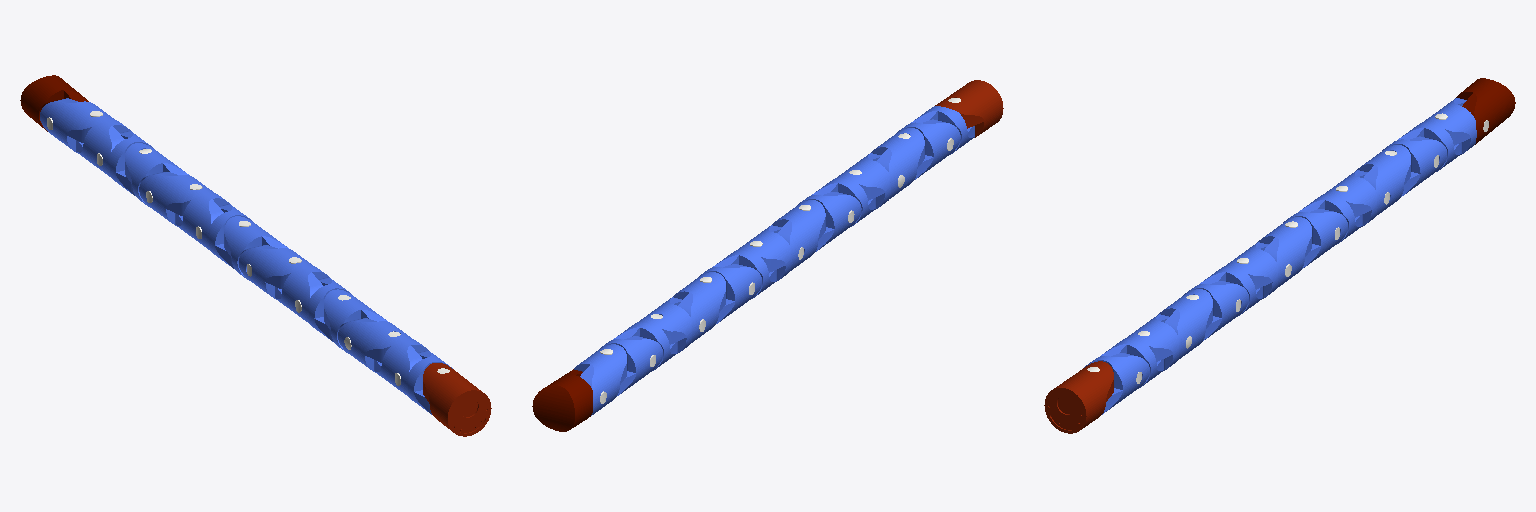
--- What the picture shows (computed from the rendered views, not written in the file) ---
Views: 3 orthographic renders of the robot side by side, from view 1: azimuth 30°, elevation 25°; view 2: azimuth 150°, elevation 25°; view 3: azimuth 330°, elevation 25°.
Model onshape with 18 links and 17 joints (16 revolute, 1 floating), rooted at world, posed all joints at 0.
Links seen in each view (by area): view 1: finalhead, finalcoupling_3, finalcoupling_7, finalcoupling_15, finalcoupling_11, finalcoupling_12, finalcoupling_4, finalend, finalcoupling_14, finalcoupling_6, finalcoupling_10, finalcoupling_8 (+5 smaller); view 2: finalend, finalcoupling_7, finalhead, finalcoupling_3, finalcoupling_11, finalcoupling_15, finalcoupling_10, finalcoupling_14, finalcoupling_6, finalcoupling_4, finalcoupling_12, finalcoupling_2 (+5 smaller); view 3: finalhead, finalcoupling_4, finalcoupling_12, finalend, finalcoupling_8, finalcoupling_9, finalcoupling, finalcoupling_13, finalcoupling_5, finalcoupling_7, finalcoupling_3, finalcoupling_15 (+5 smaller).
Link boxes in pixels (box(x1,y1,x2,y2)): finalhead: box(423, 363, 491, 436); finalcoupling_3: box(338, 318, 413, 371); finalcoupling_7: box(239, 245, 314, 298); finalcoupling_15: box(40, 98, 114, 152); finalcoupling_11: box(139, 172, 215, 225); finalcoupling_12: box(125, 143, 188, 206); finalcoupling_4: box(324, 289, 387, 353); finalend: box(20, 75, 88, 131); finalcoupling_14: box(76, 111, 130, 176); finalcoupling_6: box(275, 257, 328, 323); finalcoupling_10: box(175, 184, 229, 249); finalcoupling_8: box(224, 216, 288, 280); finalend: box(532, 369, 606, 431); finalcoupling_7: box(772, 200, 825, 270); finalhead: box(935, 80, 1003, 137); finalcoupling_3: box(871, 128, 924, 198); finalcoupling_11: box(673, 272, 725, 342); finalcoupling_15: box(574, 344, 626, 415); finalcoupling_10: box(699, 264, 761, 323); finalcoupling_14: box(600, 336, 662, 395); finalcoupling_6: box(798, 192, 861, 251); finalcoupling_4: box(837, 153, 904, 208); finalcoupling_12: box(639, 297, 705, 352); finalcoupling_2: box(897, 119, 960, 179); finalhead: box(1044, 361, 1113, 433); finalcoupling_4: box(1159, 289, 1212, 359); finalcoupling_12: box(1357, 145, 1410, 214); finalend: box(1456, 78, 1515, 144); finalcoupling_8: box(1258, 217, 1311, 287); finalcoupling_9: box(1283, 209, 1347, 268); finalcoupling: box(1084, 353, 1149, 414); finalcoupling_13: box(1382, 136, 1446, 196); finalcoupling_5: box(1183, 281, 1248, 340); finalcoupling_7: box(1224, 242, 1291, 298); finalcoupling_3: box(1125, 314, 1178, 370); finalcoupling_15: box(1422, 98, 1476, 154).
Size in the robot's own frame: 0.0652 by 1.04 by 0.063 metres.
33 mesh visuals loaded from 4 distinct referenced files (4 binary STL).

URDF robot description (onshape):
<robot name="onshape">
 <mujoco>
         <compiler 
         meshdir="../meshes/" 
         balanceinertia="true" 
         discardvisual="false" />
 </mujoco>
  <link name="world"/>
 <joint name="floating_base" type="floating">
     <origin rpy="0 0 0" xyz="0 0 0"/>
     <parent link="world"/>
     <child link="finalhead"/>
 </joint>
<link name="finalhead">
<visual>
<origin xyz="0.000743331 0.0237264 0.0388336" rpy="0 0 -0.0272326" />
<geometry>
<mesh filename="../meshes/finalhead.stl"/>
</geometry>
<material name="finalhead_material">
<color rgba="0.596078 0.176471 0.0509804 1.0"/>
</material>
</visual>
<collision>
<origin xyz="0.000743331 0.0237264 0.0388336" rpy="0 0 -0.0272326" />
<geometry>
<mesh filename="../meshes/finalhead.stl"/>
</geometry>
<material name="finalhead_material">
<color rgba="0.596078 0.176471 0.0509804 1.0"/>
</material>
</collision>
<visual>
<origin xyz="0.00128792 0.043719 0.0086617" rpy="0 0 -0.0272326" />
<geometry>
<mesh filename="../meshes/finalrod.stl"/>
</geometry>
<material name="finalrod_material">
<color rgba="1 0.996078 0.968627 1.0"/>
</material>
</visual>
<collision>
<origin xyz="0.00128792 0.043719 0.0086617" rpy="0 0 -0.0272326" />
<geometry>
<mesh filename="../meshes/finalrod.stl"/>
</geometry>
<material name="finalrod_material">
<color rgba="1 0.996078 0.968627 1.0"/>
</material>
</collision>
<inertial>
<origin xyz="0.000501801 0.0148621 0.0426872" rpy="0 0 0"/>
<mass value="0.246213" />
<inertia ixx="0.000190923" ixy="-2.34304e-06"  ixz="-7.09537e-07" iyy="0.000104956" iyz="-2.60499e-05" izz="0.000188679" />
</inertial>
</link>

<link name="finalcoupling">
<visual>
<origin xyz="0.02 -2.1684e-19 0.0005" rpy="1.5708 1.5708 0" />
<geometry>
<mesh filename="../meshes/finalcoupling.stl"/>
</geometry>
<material name="finalcoupling_material">
<color rgba="0.372549 0.533333 1 1.0"/>
</material>
</visual>
<collision>
<origin xyz="0.02 -2.1684e-19 0.0005" rpy="1.5708 1.5708 0" />
<geometry>
<mesh filename="../meshes/finalcoupling.stl"/>
</geometry>
<material name="finalcoupling_material">
<color rgba="0.372549 0.533333 1 1.0"/>
</material>
</collision>
<visual>
<origin xyz="0.06 0.0301709 0.0005" rpy="1.5708 0 0" />
<geometry>
<mesh filename="../meshes/finalrod.stl"/>
</geometry>
<material name="finalrod_material">
<color rgba="1 0.996078 0.968627 1.0"/>
</material>
</visual>
<collision>
<origin xyz="0.06 0.0301709 0.0005" rpy="1.5708 0 0" />
<geometry>
<mesh filename="../meshes/finalrod.stl"/>
</geometry>
<material name="finalrod_material">
<color rgba="1 0.996078 0.968627 1.0"/>
</material>
</collision>
<inertial>
<origin xyz="0.0321744 -0.00447826 -0.00399057" rpy="0 0 0"/>
<mass value="0.211217" />
<inertia ixx="8.34885e-05" ixy="2.51775e-05"  ixz="-2.93751e-05" iyy="0.000194407" iyz="4.24805e-06" izz="0.000198724" />
</inertial>
</link>

<link name="finalcoupling_2">
<visual>
<origin xyz="0 0.04 0.0005" rpy="-3.14159 -0 0" />
<geometry>
<mesh filename="../meshes/finalcoupling.stl"/>
</geometry>
<material name="finalcoupling_material">
<color rgba="0.372549 0.533333 1 1.0"/>
</material>
</visual>
<collision>
<origin xyz="0 0.04 0.0005" rpy="-3.14159 -0 0" />
<geometry>
<mesh filename="../meshes/finalcoupling.stl"/>
</geometry>
<material name="finalcoupling_material">
<color rgba="0.372549 0.533333 1 1.0"/>
</material>
</collision>
<inertial>
<origin xyz="0.00484149 0.03 -0.00434156" rpy="0 0 0"/>
<mass value="0.195908" />
<inertia ixx="0.000180844" ixy="-2.73127e-05"  ixz="-4.59263e-06" iyy="7.80517e-05" iyz="-2.73127e-05" izz="0.000180836" />
</inertial>
</link>

<link name="finalcoupling_3">
<visual>
<origin xyz="9.97466e-18 0 0.0306709" rpy="3.14159 0 -3.14159" />
<geometry>
<mesh filename="../meshes/finalrod.stl"/>
</geometry>
<material name="finalrod_material">
<color rgba="1 0.996078 0.968627 1.0"/>
</material>
</visual>
<collision>
<origin xyz="9.97466e-18 0 0.0306709" rpy="3.14159 0 -3.14159" />
<geometry>
<mesh filename="../meshes/finalrod.stl"/>
</geometry>
<material name="finalrod_material">
<color rgba="1 0.996078 0.968627 1.0"/>
</material>
</collision>
<visual>
<origin xyz="0 0.04 0.0005" rpy="3.14159 -0 0" />
<geometry>
<mesh filename="../meshes/finalcoupling.stl"/>
</geometry>
<material name="finalcoupling_material">
<color rgba="0.372549 0.533333 1 1.0"/>
</material>
</visual>
<collision>
<origin xyz="0 0.04 0.0005" rpy="3.14159 -0 0" />
<geometry>
<mesh filename="../meshes/finalcoupling.stl"/>
</geometry>
<material name="finalcoupling_material">
<color rgba="0.372549 0.533333 1 1.0"/>
</material>
</collision>
<inertial>
<origin xyz="0.00449058 0.0278256 -0.00397826" rpy="0 0 0"/>
<mass value="0.211217" />
<inertia ixx="0.000198727" ixy="-2.9375e-05"  ixz="-4.24805e-06" iyy="8.34859e-05" iyz="-2.51775e-05" izz="0.000194407" />
</inertial>
</link>

<link name="finalcoupling_4">
<visual>
<origin xyz="0.02 0 0.0005" rpy="1.5708 1.5708 0" />
<geometry>
<mesh filename="../meshes/finalcoupling.stl"/>
</geometry>
<material name="finalcoupling_material">
<color rgba="0.372549 0.533333 1 1.0"/>
</material>
</visual>
<collision>
<origin xyz="0.02 0 0.0005" rpy="1.5708 1.5708 0" />
<geometry>
<mesh filename="../meshes/finalcoupling.stl"/>
</geometry>
<material name="finalcoupling_material">
<color rgba="0.372549 0.533333 1 1.0"/>
</material>
</collision>
<visual>
<origin xyz="2.77556e-17 -2.35922e-16 0.0306709" rpy="-3.14159 0 1.5708" />
<geometry>
<mesh filename="../meshes/finalrod.stl"/>
</geometry>
<material name="finalrod_material">
<color rgba="1 0.996078 0.968627 1.0"/>
</material>
</visual>
<collision>
<origin xyz="2.77556e-17 -2.35922e-16 0.0306709" rpy="-3.14159 0 1.5708" />
<geometry>
<mesh filename="../meshes/finalrod.stl"/>
</geometry>
<material name="finalrod_material">
<color rgba="1 0.996078 0.968627 1.0"/>
</material>
</collision>
<visual>
<origin xyz="0.06 0.0301709 0.0005" rpy="1.5708 1.5708 0" />
<geometry>
<mesh filename="../meshes/finalrod.stl"/>
</geometry>
<material name="finalrod_material">
<color rgba="1 0.996078 0.968627 1.0"/>
</material>
</visual>
<collision>
<origin xyz="0.06 0.0301709 0.0005" rpy="1.5708 1.5708 0" />
<geometry>
<mesh filename="../meshes/finalrod.stl"/>
</geometry>
<material name="finalrod_material">
<color rgba="1 0.996078 0.968627 1.0"/>
</material>
</collision>
<inertial>
<origin xyz="0.03 -0.00417561 -0.00367555" rpy="0 0 0"/>
<mass value="0.226526" />
<inertia ixx="8.88271e-05" ixy="2.72343e-05"  ixz="-2.72342e-05" iyy="0.000214241" iyz="3.95007e-06" izz="0.000214249" />
</inertial>
</link>

<link name="finalcoupling_5">
<visual>
<origin xyz="0.02 -4.33681e-19 0.0005" rpy="1.5708 1.5708 0" />
<geometry>
<mesh filename="../meshes/finalcoupling.stl"/>
</geometry>
<material name="finalcoupling_material">
<color rgba="0.372549 0.533333 1 1.0"/>
</material>
</visual>
<collision>
<origin xyz="0.02 -4.33681e-19 0.0005" rpy="1.5708 1.5708 0" />
<geometry>
<mesh filename="../meshes/finalcoupling.stl"/>
</geometry>
<material name="finalcoupling_material">
<color rgba="0.372549 0.533333 1 1.0"/>
</material>
</collision>
<visual>
<origin xyz="0.06 0.0301709 0.0005" rpy="1.5708 0 0" />
<geometry>
<mesh filename="../meshes/finalrod.stl"/>
</geometry>
<material name="finalrod_material">
<color rgba="1 0.996078 0.968627 1.0"/>
</material>
</visual>
<collision>
<origin xyz="0.06 0.0301709 0.0005" rpy="1.5708 0 0" />
<geometry>
<mesh filename="../meshes/finalrod.stl"/>
</geometry>
<material name="finalrod_material">
<color rgba="1 0.996078 0.968627 1.0"/>
</material>
</collision>
<inertial>
<origin xyz="0.0321744 -0.00447826 -0.00399057" rpy="0 0 0"/>
<mass value="0.211217" />
<inertia ixx="8.34885e-05" ixy="2.51775e-05"  ixz="-2.93751e-05" iyy="0.000194407" iyz="4.24805e-06" izz="0.000198724" />
</inertial>
</link>

<link name="finalcoupling_6">
<visual>
<origin xyz="0.029817 0.06 0.0005" rpy="0 -1.5708 0" />
<geometry>
<mesh filename="../meshes/finalrod.stl"/>
</geometry>
<material name="finalrod_material">
<color rgba="1 0.996078 0.968627 1.0"/>
</material>
</visual>
<collision>
<origin xyz="0.029817 0.06 0.0005" rpy="0 -1.5708 0" />
<geometry>
<mesh filename="../meshes/finalrod.stl"/>
</geometry>
<material name="finalrod_material">
<color rgba="1 0.996078 0.968627 1.0"/>
</material>
</collision>
<visual>
<origin xyz="0 0.04 0.0005" rpy="-3.14159 -0 0" />
<geometry>
<mesh filename="../meshes/finalcoupling.stl"/>
</geometry>
<material name="finalcoupling_material">
<color rgba="0.372549 0.533333 1 1.0"/>
</material>
</visual>
<collision>
<origin xyz="0 0.04 0.0005" rpy="-3.14159 -0 0" />
<geometry>
<mesh filename="../meshes/finalcoupling.stl"/>
</geometry>
<material name="finalcoupling_material">
<color rgba="0.372549 0.533333 1 1.0"/>
</material>
</collision>
<inertial>
<origin xyz="0.00447731 0.0321744 -0.00399064" rpy="0 0 0"/>
<mass value="0.211217" />
<inertia ixx="0.000194414" ixy="-2.51723e-05"  ixz="-4.24721e-06" iyy="8.34877e-05" iyz="-2.93751e-05" izz="0.000198721" />
</inertial>
</link>

<link name="finalcoupling_7">
<visual>
<origin xyz="0.02 -4.33681e-19 0.0005" rpy="1.5708 1.5708 0" />
<geometry>
<mesh filename="../meshes/finalcoupling.stl"/>
</geometry>
<material name="finalcoupling_material">
<color rgba="0.372549 0.533333 1 1.0"/>
</material>
</visual>
<collision>
<origin xyz="0.02 -4.33681e-19 0.0005" rpy="1.5708 1.5708 0" />
<geometry>
<mesh filename="../meshes/finalcoupling.stl"/>
</geometry>
<material name="finalcoupling_material">
<color rgba="0.372549 0.533333 1 1.0"/>
</material>
</collision>
<visual>
<origin xyz="0.06 -0.029817 0.0005" rpy="1.5708 0 3.14159" />
<geometry>
<mesh filename="../meshes/finalrod.stl"/>
</geometry>
<material name="finalrod_material">
<color rgba="1 0.996078 0.968627 1.0"/>
</material>
</visual>
<collision>
<origin xyz="0.06 -0.029817 0.0005" rpy="1.5708 0 3.14159" />
<geometry>
<mesh filename="../meshes/finalrod.stl"/>
</geometry>
<material name="finalrod_material">
<color rgba="1 0.996078 0.968627 1.0"/>
</material>
</collision>
<inertial>
<origin xyz="0.0321744 -0.00447737 -0.00399057" rpy="0 0 0"/>
<mass value="0.211217" />
<inertia ixx="8.34903e-05" ixy="2.51723e-05"  ixz="-2.93751e-05" iyy="0.000194407" iyz="4.2472e-06" izz="0.000198726" />
</inertial>
</link>

<link name="finalcoupling_8">
<visual>
<origin xyz="6.93889e-18 0.04 0.0005" rpy="3.14159 0 0" />
<geometry>
<mesh filename="../meshes/finalcoupling.stl"/>
</geometry>
<material name="finalcoupling_material">
<color rgba="0.372549 0.533333 1 1.0"/>
</material>
</visual>
<collision>
<origin xyz="6.93889e-18 0.04 0.0005" rpy="3.14159 0 0" />
<geometry>
<mesh filename="../meshes/finalcoupling.stl"/>
</geometry>
<material name="finalcoupling_material">
<color rgba="0.372549 0.533333 1 1.0"/>
</material>
</collision>
<inertial>
<origin xyz="0.00484149 0.03 -0.00434156" rpy="0 0 0"/>
<mass value="0.195908" />
<inertia ixx="0.000180844" ixy="-2.73127e-05"  ixz="-4.59263e-06" iyy="7.80517e-05" iyz="-2.73127e-05" izz="0.000180836" />
</inertial>
</link>

<link name="finalcoupling_9">
<visual>
<origin xyz="0.029817 0.06 0.0005" rpy="1.5708 0 -1.5708" />
<geometry>
<mesh filename="../meshes/finalrod.stl"/>
</geometry>
<material name="finalrod_material">
<color rgba="1 0.996078 0.968627 1.0"/>
</material>
</visual>
<collision>
<origin xyz="0.029817 0.06 0.0005" rpy="1.5708 0 -1.5708" />
<geometry>
<mesh filename="../meshes/finalrod.stl"/>
</geometry>
<material name="finalrod_material">
<color rgba="1 0.996078 0.968627 1.0"/>
</material>
</collision>
<visual>
<origin xyz="2.1684e-19 0.04 0.0005" rpy="3.14159 0 0" />
<geometry>
<mesh filename="../meshes/finalcoupling.stl"/>
</geometry>
<material name="finalcoupling_material">
<color rgba="0.372549 0.533333 1 1.0"/>
</material>
</visual>
<collision>
<origin xyz="2.1684e-19 0.04 0.0005" rpy="3.14159 0 0" />
<geometry>
<mesh filename="../meshes/finalcoupling.stl"/>
</geometry>
<material name="finalcoupling_material">
<color rgba="0.372549 0.533333 1 1.0"/>
</material>
</collision>
<visual>
<origin xyz="7.15573e-18 0 -0.029317" rpy="0 0 0" />
<geometry>
<mesh filename="../meshes/finalrod.stl"/>
</geometry>
<material name="finalrod_material">
<color rgba="1 0.996078 0.968627 1.0"/>
</material>
</visual>
<collision>
<origin xyz="7.15573e-18 0 -0.029317" rpy="0 0 0" />
<geometry>
<mesh filename="../meshes/finalrod.stl"/>
</geometry>
<material name="finalrod_material">
<color rgba="1 0.996078 0.968627 1.0"/>
</material>
</collision>
<inertial>
<origin xyz="0.00417472 0.03 -0.00367478" rpy="0 0 0"/>
<mass value="0.226526" />
<inertia ixx="0.00021425" ixy="-2.72286e-05"  ixz="-3.9485e-06" iyy="8.88329e-05" iyz="-2.72287e-05" izz="0.00021424" />
</inertial>
</link>

<link name="finalcoupling_10">
<visual>
<origin xyz="0.06 -0.029817 0.0005" rpy="-1.5708 -1.5708 0" />
<geometry>
<mesh filename="../meshes/finalrod.stl"/>
</geometry>
<material name="finalrod_material">
<color rgba="1 0.996078 0.968627 1.0"/>
</material>
</visual>
<collision>
<origin xyz="0.06 -0.029817 0.0005" rpy="-1.5708 -1.5708 0" />
<geometry>
<mesh filename="../meshes/finalrod.stl"/>
</geometry>
<material name="finalrod_material">
<color rgba="1 0.996078 0.968627 1.0"/>
</material>
</collision>
<visual>
<origin xyz="0.02 0 0.0005" rpy="1.5708 1.5708 0" />
<geometry>
<mesh filename="../meshes/finalcoupling.stl"/>
</geometry>
<material name="finalcoupling_material">
<color rgba="0.372549 0.533333 1 1.0"/>
</material>
</visual>
<collision>
<origin xyz="0.02 0 0.0005" rpy="1.5708 1.5708 0" />
<geometry>
<mesh filename="../meshes/finalcoupling.stl"/>
</geometry>
<material name="finalcoupling_material">
<color rgba="0.372549 0.533333 1 1.0"/>
</material>
</collision>
<inertial>
<origin xyz="0.0321744 -0.00447737 -0.00399058" rpy="0 0 0"/>
<mass value="0.211217" />
<inertia ixx="8.34877e-05" ixy="2.51723e-05"  ixz="-2.9375e-05" iyy="0.000194407" iyz="4.24721e-06" izz="0.000198729" />
</inertial>
</link>

<link name="finalcoupling_11">
<visual>
<origin xyz="0 0.04 0.0005" rpy="-3.14159 0 0" />
<geometry>
<mesh filename="../meshes/finalcoupling.stl"/>
</geometry>
<material name="finalcoupling_material">
<color rgba="0.372549 0.533333 1 1.0"/>
</material>
</visual>
<collision>
<origin xyz="0 0.04 0.0005" rpy="-3.14159 0 0" />
<geometry>
<mesh filename="../meshes/finalcoupling.stl"/>
</geometry>
<material name="finalcoupling_material">
<color rgba="0.372549 0.533333 1 1.0"/>
</material>
</collision>
<inertial>
<origin xyz="0.00484149 0.03 -0.00434156" rpy="0 0 0"/>
<mass value="0.195908" />
<inertia ixx="0.000180844" ixy="-2.73127e-05"  ixz="-4.59263e-06" iyy="7.80517e-05" iyz="-2.73127e-05" izz="0.000180836" />
</inertial>
</link>

<link name="finalcoupling_12">
<visual>
<origin xyz="-6.93889e-18 0.04 0.0005" rpy="-3.14159 0 0" />
<geometry>
<mesh filename="../meshes/finalcoupling.stl"/>
</geometry>
<material name="finalcoupling_material">
<color rgba="0.372549 0.533333 1 1.0"/>
</material>
</visual>
<collision>
<origin xyz="-6.93889e-18 0.04 0.0005" rpy="-3.14159 0 0" />
<geometry>
<mesh filename="../meshes/finalcoupling.stl"/>
</geometry>
<material name="finalcoupling_material">
<color rgba="0.372549 0.533333 1 1.0"/>
</material>
</collision>
<visual>
<origin xyz="-0.0301709 0.06 0.0005" rpy="-1.5708 0 -1.5708" />
<geometry>
<mesh filename="../meshes/finalrod.stl"/>
</geometry>
<material name="finalrod_material">
<color rgba="1 0.996078 0.968627 1.0"/>
</material>
</visual>
<collision>
<origin xyz="-0.0301709 0.06 0.0005" rpy="-1.5708 0 -1.5708" />
<geometry>
<mesh filename="../meshes/finalrod.stl"/>
</geometry>
<material name="finalrod_material">
<color rgba="1 0.996078 0.968627 1.0"/>
</material>
</collision>
<visual>
<origin xyz="1.8735e-16 1.11022e-16 -0.029317" rpy="0 0 -1.5708" />
<geometry>
<mesh filename="../meshes/finalrod.stl"/>
</geometry>
<material name="finalrod_material">
<color rgba="1 0.996078 0.968627 1.0"/>
</material>
</visual>
<collision>
<origin xyz="1.8735e-16 1.11022e-16 -0.029317" rpy="0 0 -1.5708" />
<geometry>
<mesh filename="../meshes/finalrod.stl"/>
</geometry>
<material name="finalrod_material">
<color rgba="1 0.996078 0.968627 1.0"/>
</material>
</collision>
<inertial>
<origin xyz="0.00417555 0.03 -0.00367478" rpy="0 0 0"/>
<mass value="0.226526" />
<inertia ixx="0.000214248" ixy="-2.72342e-05"  ixz="-3.94929e-06" iyy="8.88339e-05" iyz="-2.72287e-05" izz="0.000214239" />
</inertial>
</link>

<link name="finalcoupling_13">
<visual>
<origin xyz="0.029817 0.06 0.0005" rpy="1.5708 0 -1.5708" />
<geometry>
<mesh filename="../meshes/finalrod.stl"/>
</geometry>
<material name="finalrod_material">
<color rgba="1 0.996078 0.968627 1.0"/>
</material>
</visual>
<collision>
<origin xyz="0.029817 0.06 0.0005" rpy="1.5708 0 -1.5708" />
<geometry>
<mesh filename="../meshes/finalrod.stl"/>
</geometry>
<material name="finalrod_material">
<color rgba="1 0.996078 0.968627 1.0"/>
</material>
</collision>
<visual>
<origin xyz="2.1684e-19 0.04 0.0005" rpy="-3.14159 -0 0" />
<geometry>
<mesh filename="../meshes/finalcoupling.stl"/>
</geometry>
<material name="finalcoupling_material">
<color rgba="0.372549 0.533333 1 1.0"/>
</material>
</visual>
<collision>
<origin xyz="2.1684e-19 0.04 0.0005" rpy="-3.14159 -0 0" />
<geometry>
<mesh filename="../meshes/finalcoupling.stl"/>
</geometry>
<material name="finalcoupling_material">
<color rgba="0.372549 0.533333 1 1.0"/>
</material>
</collision>
<inertial>
<origin xyz="0.00447731 0.0321744 -0.00399064" rpy="0 0 0"/>
<mass value="0.211217" />
<inertia ixx="0.000194414" ixy="-2.51723e-05"  ixz="-4.2472e-06" iyy="8.34903e-05" iyz="-2.93752e-05" izz="0.000198719" />
</inertial>
</link>

<link name="finalcoupling_14">
<visual>
<origin xyz="0.06 0.0301709 0.0005" rpy="1.5708 -1.5708 0" />
<geometry>
<mesh filename="../meshes/finalrod.stl"/>
</geometry>
<material name="finalrod_material">
<color rgba="1 0.996078 0.968627 1.0"/>
</material>
</visual>
<collision>
<origin xyz="0.06 0.0301709 0.0005" rpy="1.5708 -1.5708 0" />
<geometry>
<mesh filename="../meshes/finalrod.stl"/>
</geometry>
<material name="finalrod_material">
<color rgba="1 0.996078 0.968627 1.0"/>
</material>
</collision>
<visual>
<origin xyz="0.02 0 0.0005" rpy="1.5708 1.5708 0" />
<geometry>
<mesh filename="../meshes/finalcoupling.stl"/>
</geometry>
<material name="finalcoupling_material">
<color rgba="0.372549 0.533333 1 1.0"/>
</material>
</visual>
<collision>
<origin xyz="0.02 0 0.0005" rpy="1.5708 1.5708 0" />
<geometry>
<mesh filename="../meshes/finalcoupling.stl"/>
</geometry>
<material name="finalcoupling_material">
<color rgba="0.372549 0.533333 1 1.0"/>
</material>
</collision>
<inertial>
<origin xyz="0.0321744 -0.00447826 -0.00399058" rpy="0 0 0"/>
<mass value="0.211217" />
<inertia ixx="8.34859e-05" ixy="2.51775e-05"  ixz="-2.9375e-05" iyy="0.000194407" iyz="4.24805e-06" izz="0.000198727" />
</inertial>
</link>

<link name="finalcoupling_15">
<visual>
<origin xyz="-4.33681e-19 0.04 0.0005" rpy="3.14159 0 0" />
<geometry>
<mesh filename="../meshes/finalcoupling.stl"/>
</geometry>
<material name="finalcoupling_material">
<color rgba="0.372549 0.533333 1 1.0"/>
</material>
</visual>
<collision>
<origin xyz="-4.33681e-19 0.04 0.0005" rpy="3.14159 0 0" />
<geometry>
<mesh filename="../meshes/finalcoupling.stl"/>
</geometry>
<material name="finalcoupling_material">
<color rgba="0.372549 0.533333 1 1.0"/>
</material>
</collision>
<inertial>
<origin xyz="0.00484149 0.03 -0.00434156" rpy="0 0 0"/>
<mass value="0.195908" />
<inertia ixx="0.000180844" ixy="-2.73127e-05"  ixz="-4.59263e-06" iyy="7.80517e-05" iyz="-2.73127e-05" izz="0.000180836" />
</inertial>
</link>

<link name="finalend">
<visual>
<origin xyz="-5.12611e-16 2.44249e-15 0.0306709" rpy="-3.14159 0 -1.5708" />
<geometry>
<mesh filename="../meshes/finalrod.stl"/>
</geometry>
<material name="finalrod_material">
<color rgba="1 0.996078 0.968627 1.0"/>
</material>
</visual>
<collision>
<origin xyz="-5.12611e-16 2.44249e-15 0.0306709" rpy="-3.14159 0 -1.5708" />
<geometry>
<mesh filename="../meshes/finalrod.stl"/>
</geometry>
<material name="finalrod_material">
<color rgba="1 0.996078 0.968627 1.0"/>
</material>
</collision>
<visual>
<origin xyz="-1.54268e-08 0.07 0.0005" rpy="3.14159 0 0" />
<geometry>
<mesh filename="../meshes/finalend.stl"/>
</geometry>
<material name="finalend_material">
<color rgba="0.458824 0.105882 0 1.0"/>
</material>
</visual>
<collision>
<origin xyz="-1.54268e-08 0.07 0.0005" rpy="3.14159 0 0" />
<geometry>
<mesh filename="../meshes/finalend.stl"/>
</geometry>
<material name="finalend_material">
<color rgba="0.458824 0.105882 0 1.0"/>
</material>
</collision>
<inertial>
<origin xyz="-1.26318e-07 0.0305856 -0.00316821" rpy="0 0 0"/>
<mass value="0.257835" />
<inertia ixx="0.000210588" ixy="6.25037e-10"  ixz="2.8388e-09" iyy="0.00010846" iyz="-2.77882e-05" izz="0.000204906" />
</inertial>
</link>

<joint name="joint16" type="revolute">
<origin xyz="0.0005 0.06 0.0005" rpy="-1.5708 1.52168 -1.5708" />
<parent link="finalcoupling_15" />
<child link="finalend" />
<axis xyz="0 0 1"/>
<limit effort="1" velocity="20" />
<joint_properties friction="0.0"/>
</joint>

<joint name="joint15" type="revolute">
<origin xyz="0.06 -0.0005 0.0005" rpy="1.5708 1.5708 0" />
<parent link="finalcoupling_14" />
<child link="finalcoupling_15" />
<axis xyz="0 0 1"/>
<limit effort="1" velocity="20" />
<joint_properties friction="0.0"/>
</joint>

<joint name="joint14" type="revolute">
<origin xyz="0.0005 0.06 0.0005" rpy="1.5708 0 1.5708" />
<parent link="finalcoupling_13" />
<child link="finalcoupling_14" />
<axis xyz="0 0 1"/>
<limit effort="1" velocity="20" />
<joint_properties friction="0.0"/>
</joint>

<joint name="joint13" type="revolute">
<origin xyz="0.0005 0.06 0.0005" rpy="0 1.5708 0" />
<parent link="finalcoupling_12" />
<child link="finalcoupling_13" />
<axis xyz="0 0 1"/>
<limit effort="1" velocity="20" />
<joint_properties friction="0.0"/>
</joint>

<joint name="joint12" type="revolute">
<origin xyz="0.0005 0.06 0.0005" rpy="0 1.5708 0" />
<parent link="finalcoupling_11" />
<child link="finalcoupling_12" />
<axis xyz="0 0 1"/>
<limit effort="1" velocity="20" />
<joint_properties friction="0.0"/>
</joint>

<joint name="joint11" type="revolute">
<origin xyz="0.06 -0.0005 0.0005" rpy="1.5708 1.5708 0" />
<parent link="finalcoupling_10" />
<child link="finalcoupling_11" />
<axis xyz="0 0 1"/>
<limit effort="1" velocity="20" />
<joint_properties friction="0.0"/>
</joint>

<joint name="joint10" type="revolute">
<origin xyz="0.0005 0.06 0.0005" rpy="1.5708 0 1.5708" />
<parent link="finalcoupling_9" />
<child link="finalcoupling_10" />
<axis xyz="0 0 1"/>
<limit effort="1" velocity="20" />
<joint_properties friction="0.0"/>
</joint>

<joint name="joint9" type="revolute">
<origin xyz="0.0005 0.06 0.0005" rpy="0 1.5708 0" />
<parent link="finalcoupling_8" />
<child link="finalcoupling_9" />
<axis xyz="0 0 1"/>
<limit effort="1" velocity="20" />
<joint_properties friction="0.0"/>
</joint>

<joint name="joint8" type="revolute">
<origin xyz="0.06 -0.0005 0.0005" rpy="1.5708 1.5708 0" />
<parent link="finalcoupling_7" />
<child link="finalcoupling_8" />
<axis xyz="0 0 1"/>
<limit effort="1" velocity="20" />
<joint_properties friction="0.0"/>
</joint>

<joint name="joint7" type="revolute">
<origin xyz="0.0005 0.06 0.0005" rpy="1.5708 0 1.5708" />
<parent link="finalcoupling_6" />
<child link="finalcoupling_7" />
<axis xyz="0 0 1"/>
<limit effort="1" velocity="20" />
<joint_properties friction="0.0"/>
</joint>

<joint name="joint6" type="revolute">
<origin xyz="0.06 -0.0005 0.0005" rpy="1.5708 1.5708 0" />
<parent link="finalcoupling_5" />
<child link="finalcoupling_6" />
<axis xyz="0 0 1"/>
<limit effort="1" velocity="20" />
<joint_properties friction="0.0"/>
</joint>

<joint name="joint5" type="revolute">
<origin xyz="0.06 -0.0005 0.0005" rpy="1.5708 0 0" />
<parent link="finalcoupling_4" />
<child link="finalcoupling_5" />
<axis xyz="0 0 1"/>
<limit effort="1" velocity="20" />
<joint_properties friction="0.0"/>
</joint>

<joint name="joint4" type="revolute">
<origin xyz="0.0005 0.06 0.0005" rpy="1.5708 0 1.5708" />
<parent link="finalcoupling_3" />
<child link="finalcoupling_4" />
<axis xyz="0 0 1"/>
<limit effort="1" velocity="20" />
<joint_properties friction="0.0"/>
</joint>

<joint name="joint3" type="revolute">
<origin xyz="0.0005 0.06 0.0005" rpy="0 1.5708 0" />
<parent link="finalcoupling_2" />
<child link="finalcoupling_3" />
<axis xyz="0 0 1"/>
<limit effort="1" velocity="20" />
<joint_properties friction="0.0"/>
</joint>

<joint name="joint2" type="revolute">
<origin xyz="0.06 -0.0005 0.0005" rpy="1.5708 1.5708 0" />
<parent link="finalcoupling" />
<child link="finalcoupling_2" />
<axis xyz="0 0 1"/>
<limit effort="1" velocity="20" />
<joint_properties friction="0.0"/>
</joint>

<joint name="joint1" type="revolute">
<origin xyz="0.00128792 0.043719 0.0393336" rpy="0 0 1.56795" />
<parent link="finalhead" />
<child link="finalcoupling" />
<axis xyz="0 0 1"/>
<limit effort="1" velocity="20" />
<joint_properties friction="0.0"/>
</joint>


</robot>
